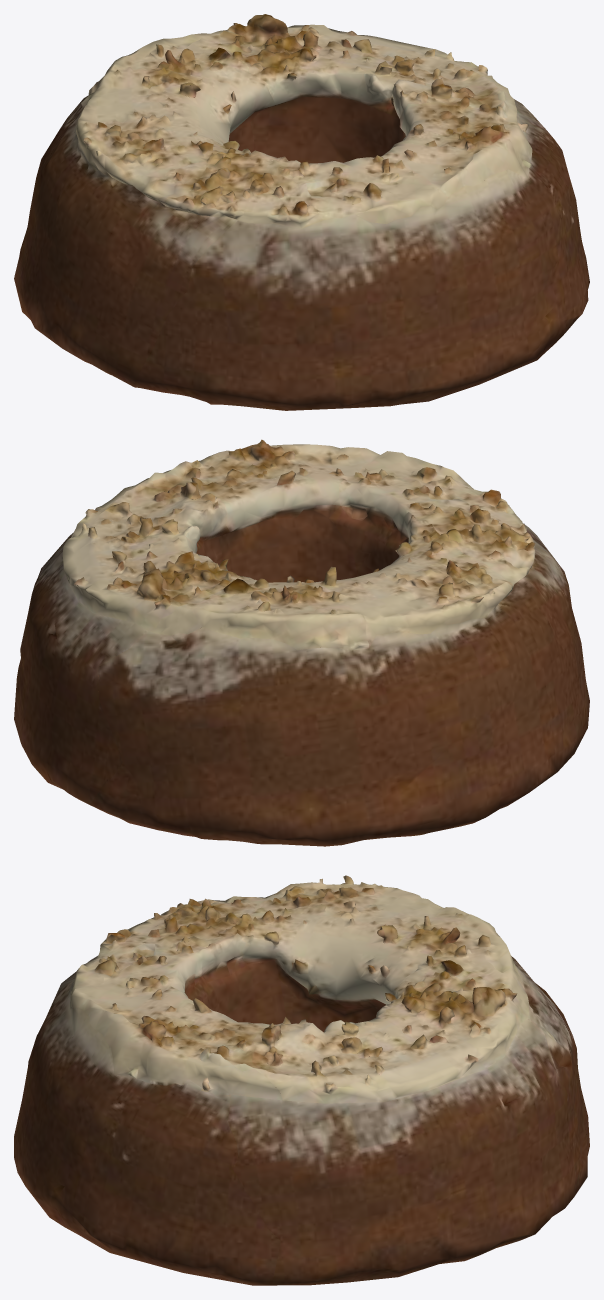
Rendered from ph_carrot_cake.glb.
3 views of the same model, one above another, from view 1: azimuth 30°, elevation 25°; view 2: azimuth 150°, elevation 25°; view 3: azimuth 270°, elevation 25° (orthographic). The views are drawn at different scales.
Parts seen in each view (by area): view 1: carrot_cake; view 2: carrot_cake; view 3: carrot_cake.
Part boxes in pixels (left/top/right/bottom): carrot_cake: left=14, top=14, right=589, bottom=410; carrot_cake: left=14, top=439, right=589, bottom=846; carrot_cake: left=14, top=875, right=589, bottom=1285.
Size of the model in its own units: 0.2254 by 0.0976 by 0.2254.
Materials: 1 (1 with a texture image).
